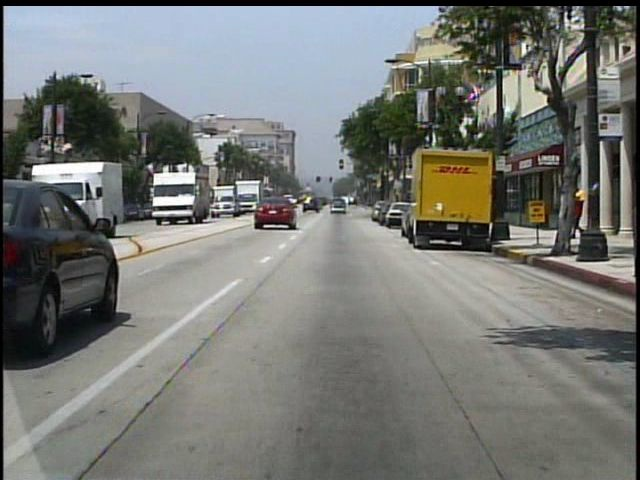person: (569, 181, 584, 236)
